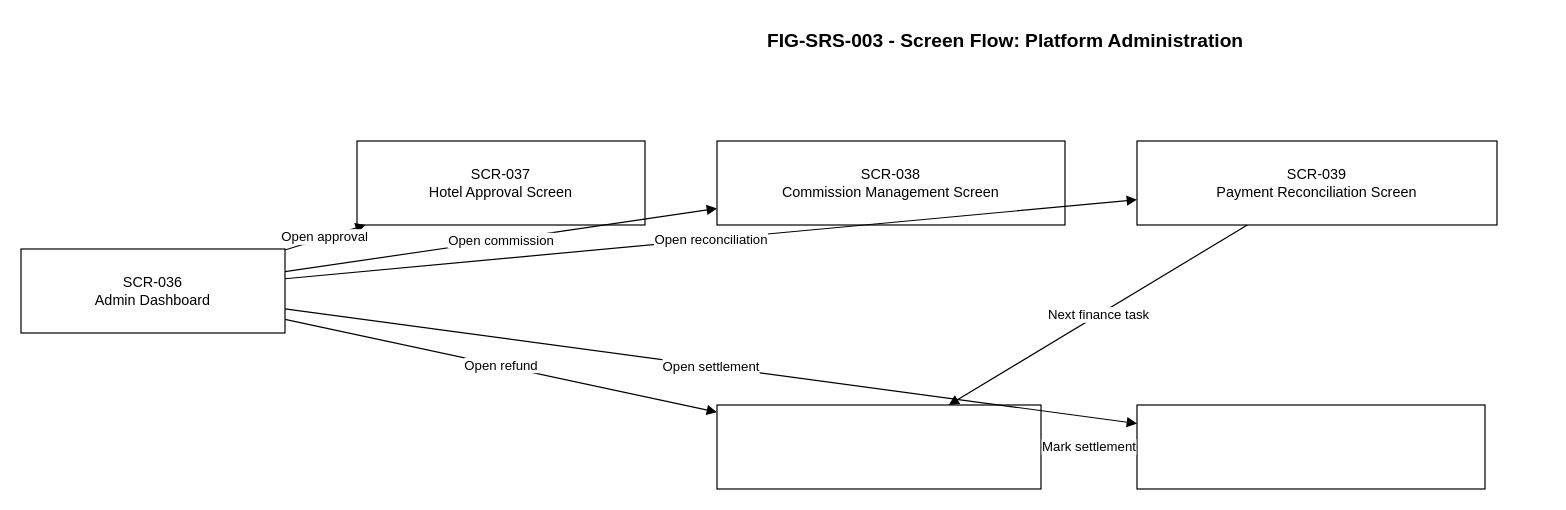
The diagram is 1566 pixels wide and 510 high, and some of its shapes have lost their labels. Here are the shapes that lost their labels. From the top down, the box of each, then its label:
(716, 404, 1041, 489): SCR-040 Refund Management Screen
(1136, 404, 1485, 489): SCR-041 Settlement Management Screen
